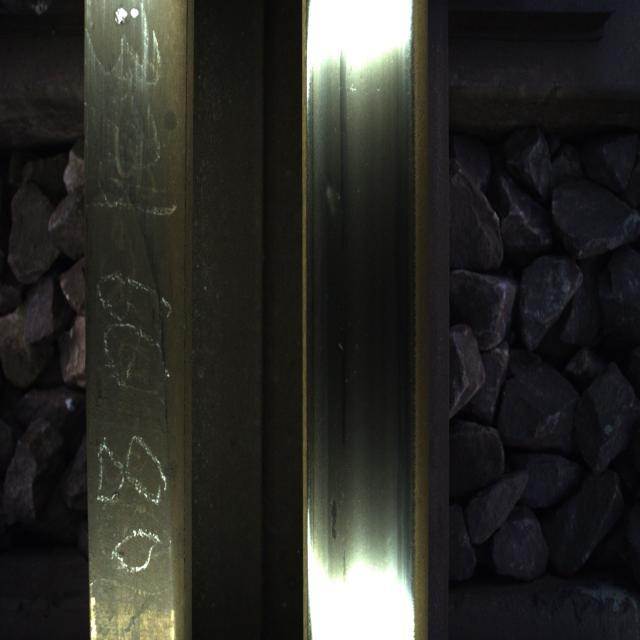break: (306, 23, 402, 565)
